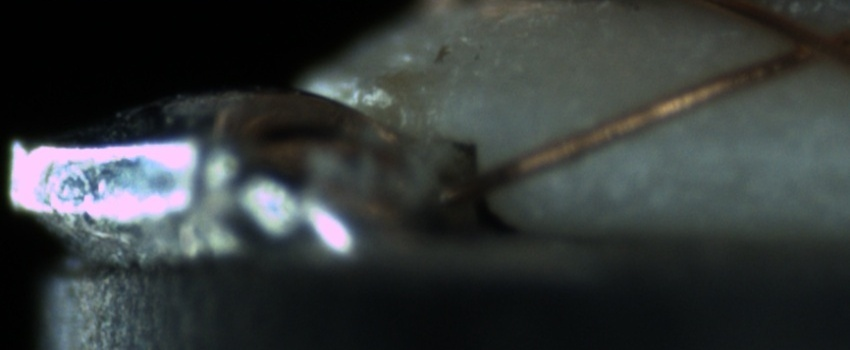CL: (764, 11, 844, 76)
